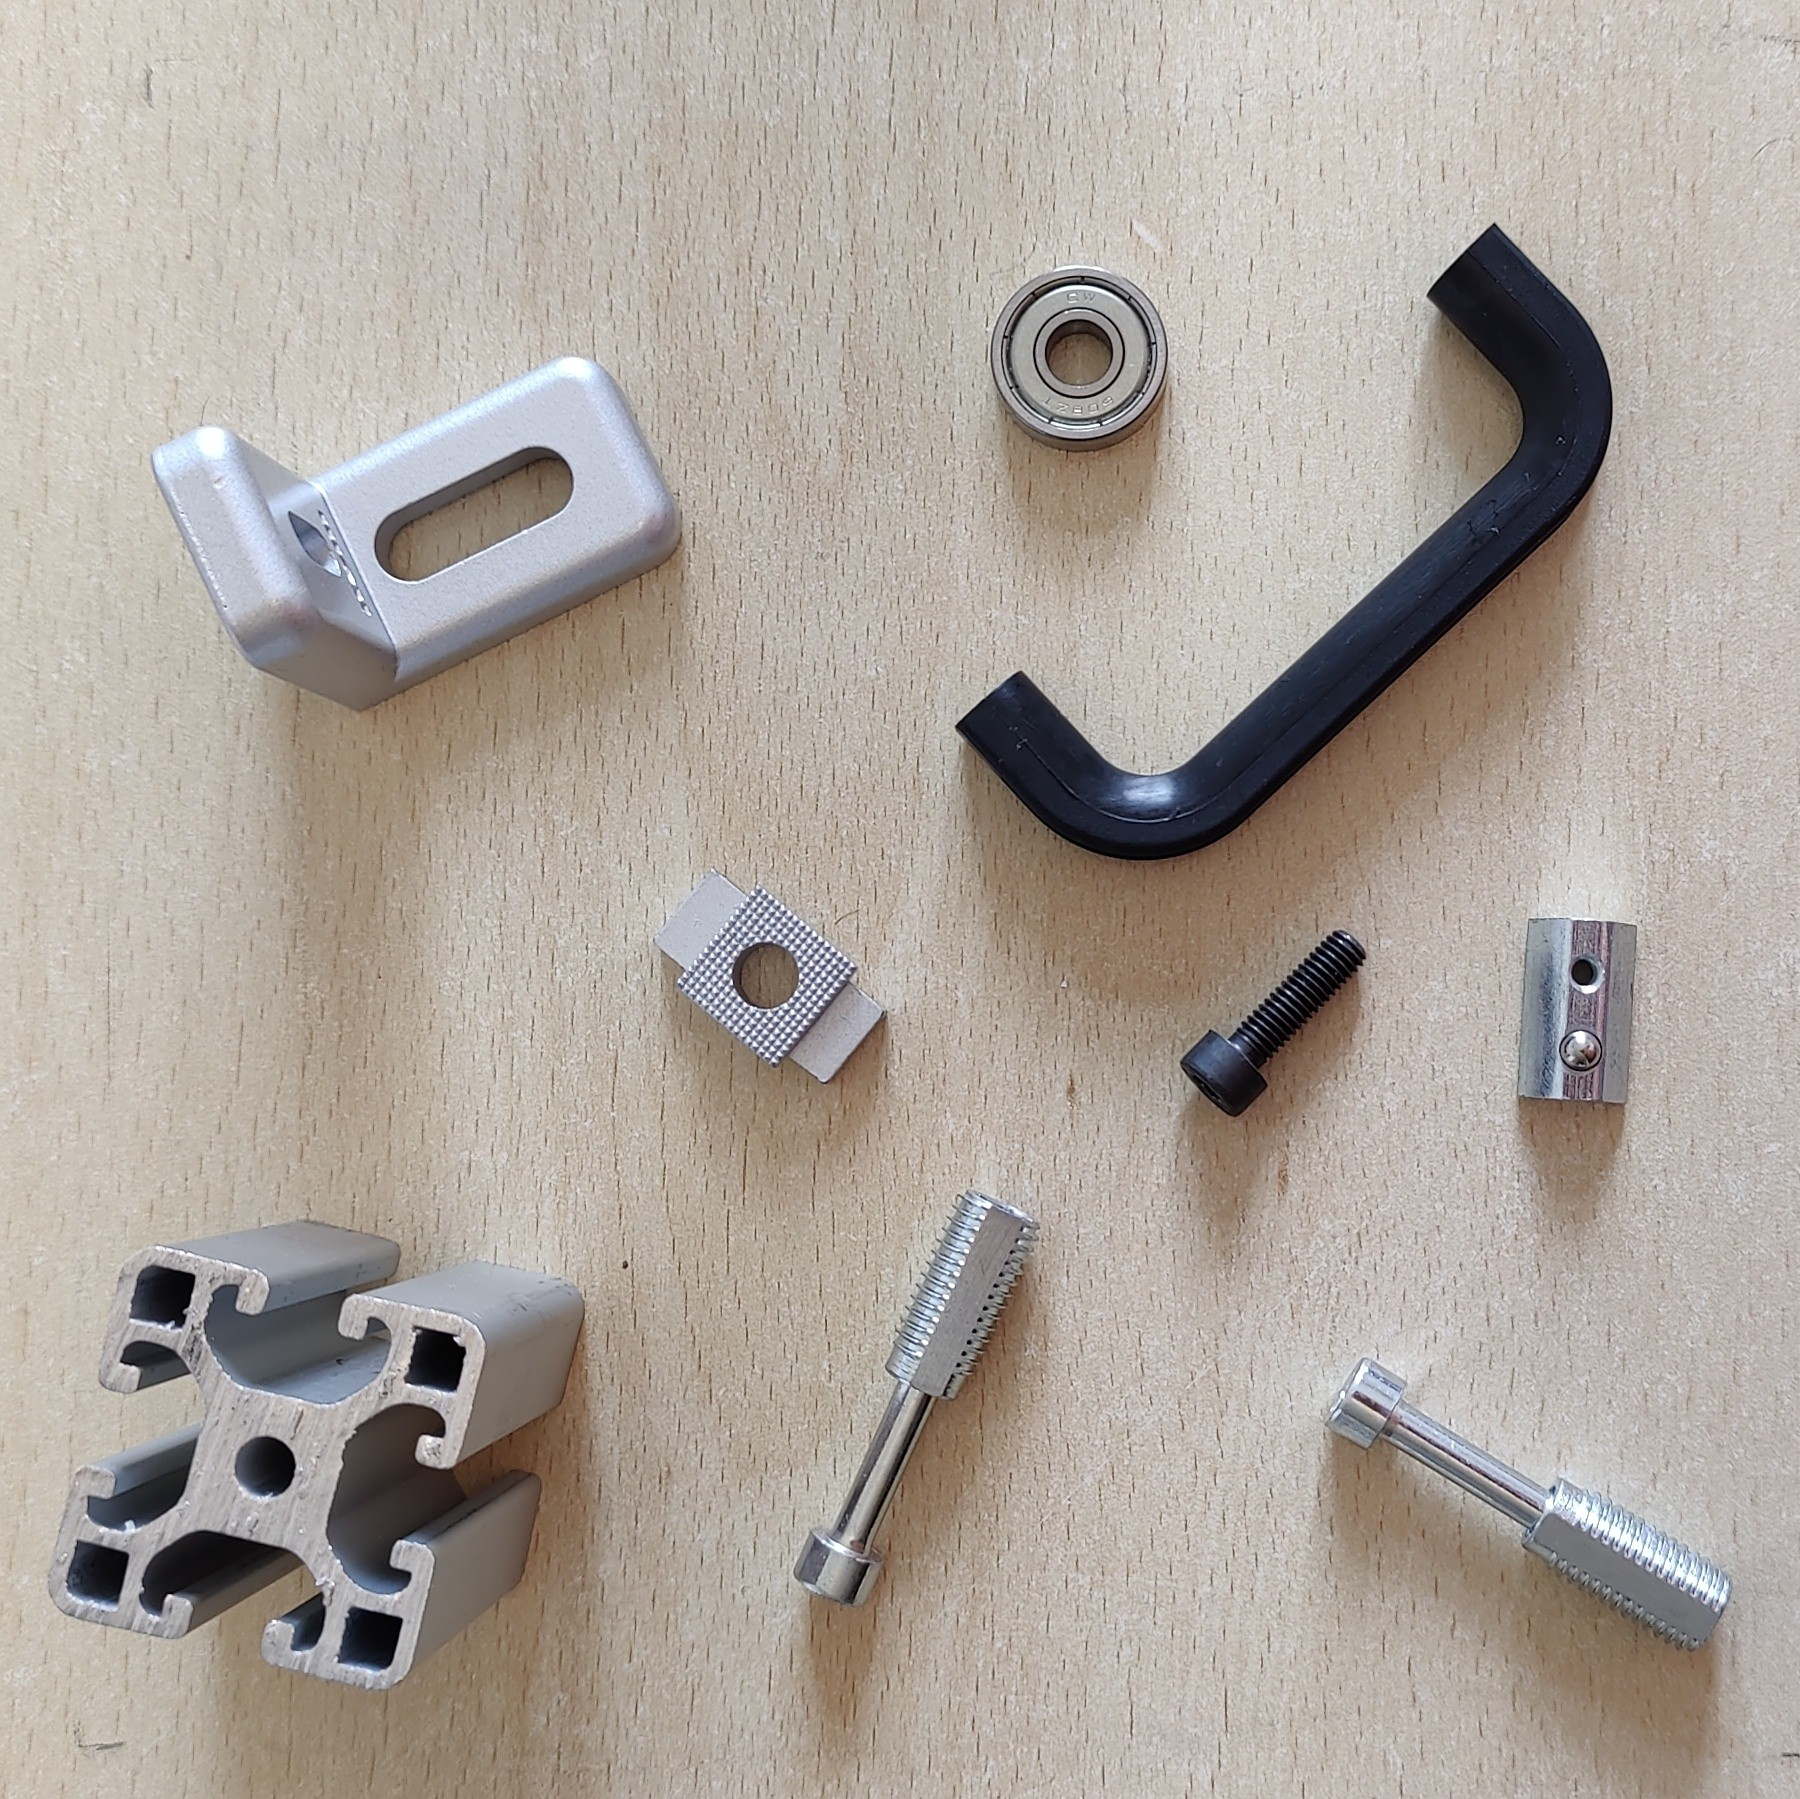Aluminium Extension: (44, 1216, 590, 1695)
Ball Bearing: (990, 262, 1173, 455)
Multiwinkel: (148, 353, 683, 717)
Pull Handle: (952, 217, 1616, 863)
Shoulder Socket Head Cap Screw: (1322, 1354, 1736, 1657), (792, 1188, 1042, 1606)
Socket Head Cap Screw: (1177, 923, 1367, 1127)
T Nut Square: (651, 862, 888, 1087)
T Spring Nut: (1512, 909, 1642, 1110)
